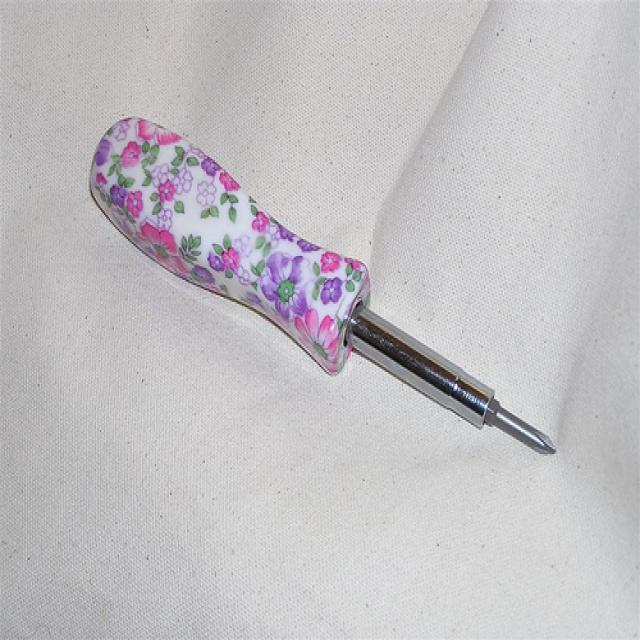screwdriver: (72, 94, 564, 478)
